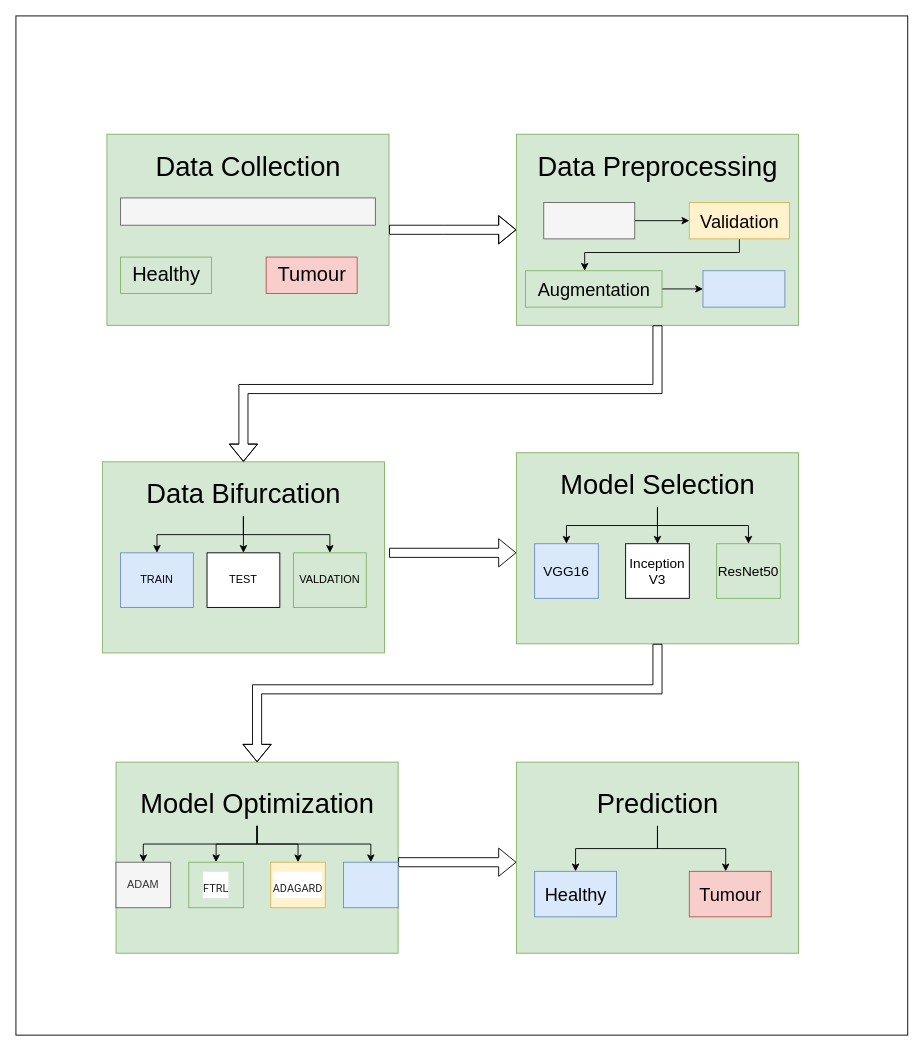
The diagram is 924 pixels wide and 1051 high, and some of its shapes have lost their labels. Here are the shapes that lost their labels. From the top down, the box of each, then its label:
(120, 197, 375, 225): Dataset Created By Web Scraping
(543, 202, 635, 239): Cleaning
(702, 270, 785, 307): Filtering
(343, 861, 398, 908): SGD
